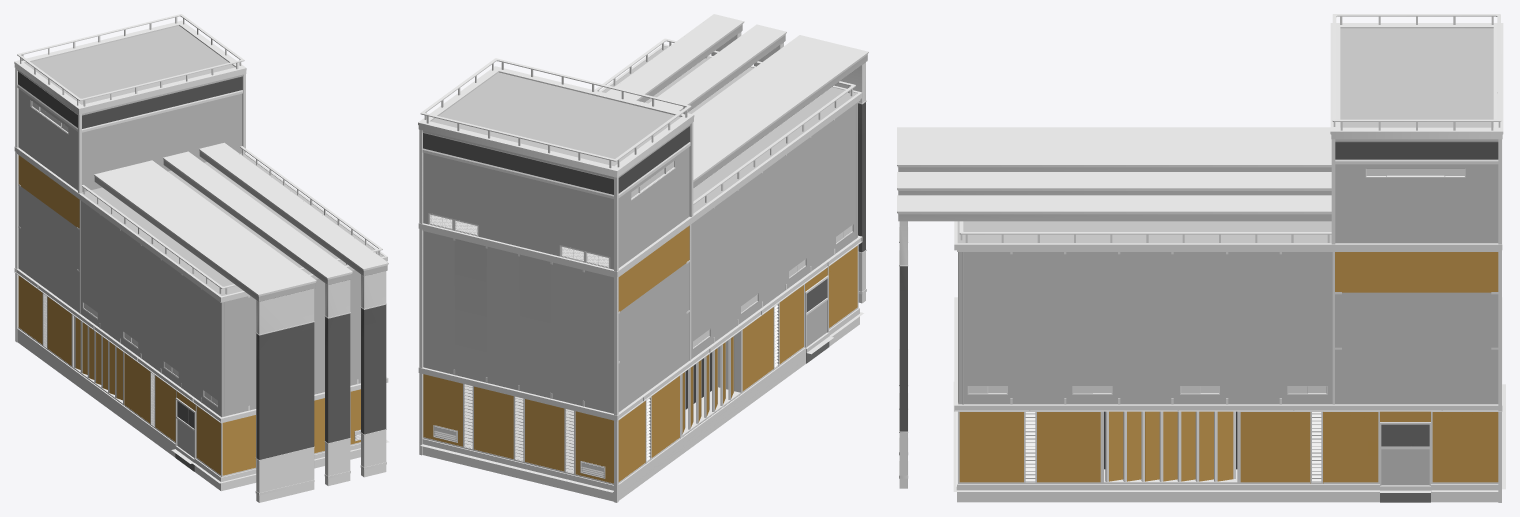
The picture shows the model from 3 angles, left to right: view 1: azimuth 30°, elevation 25°; view 2: azimuth 150°, elevation 25°; view 3: azimuth 270°, elevation 25°; orthographic projection. The views are drawn at different scales.
Visible parts, largest first — view 1: SM_H_Building_FutureTech_Aerospace_01; view 2: SM_H_Building_FutureTech_Aerospace_01; view 3: SM_H_Building_FutureTech_Aerospace_01.
Part boxes in pixels (x1,y1,x2,y2): SM_H_Building_FutureTech_Aerospace_01: (14,14,389,502); SM_H_Building_FutureTech_Aerospace_01: (418,14,868,502); SM_H_Building_FutureTech_Aerospace_01: (897,14,1505,502).
Size of the model in its own units: 1329 by 582 by 919.
